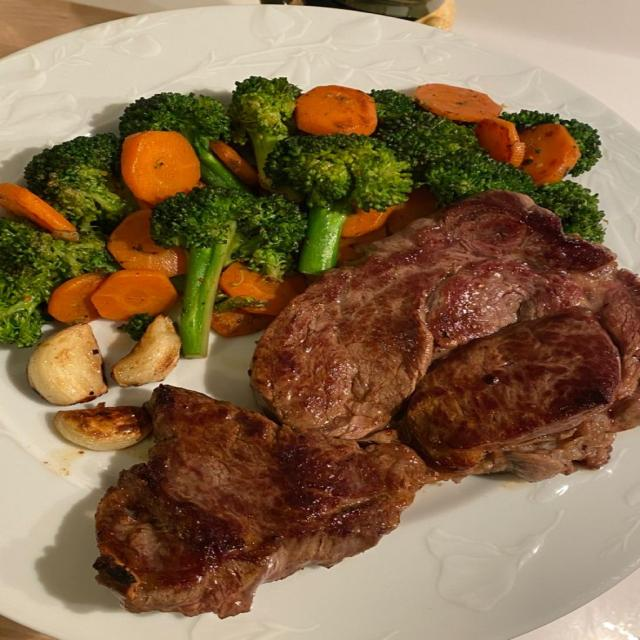beef steak: (250, 192, 639, 479), (94, 386, 425, 617)
broccoli: (372, 90, 604, 242), (152, 186, 306, 358), (266, 134, 413, 274), (0, 217, 118, 347), (119, 92, 248, 190), (24, 134, 137, 233), (371, 90, 485, 185), (227, 76, 300, 188), (501, 110, 601, 176), (422, 149, 536, 206), (530, 180, 605, 242), (118, 313, 154, 341)
carrot: (121, 131, 200, 204), (107, 209, 186, 276), (219, 262, 305, 314), (0, 183, 78, 239), (92, 269, 177, 320), (296, 85, 377, 134), (521, 124, 580, 185), (414, 83, 501, 122), (48, 273, 105, 324), (475, 117, 524, 166), (210, 141, 257, 187), (341, 205, 398, 237), (211, 309, 274, 337)
garlic: (28, 324, 107, 405), (111, 314, 180, 386), (54, 403, 150, 450)
